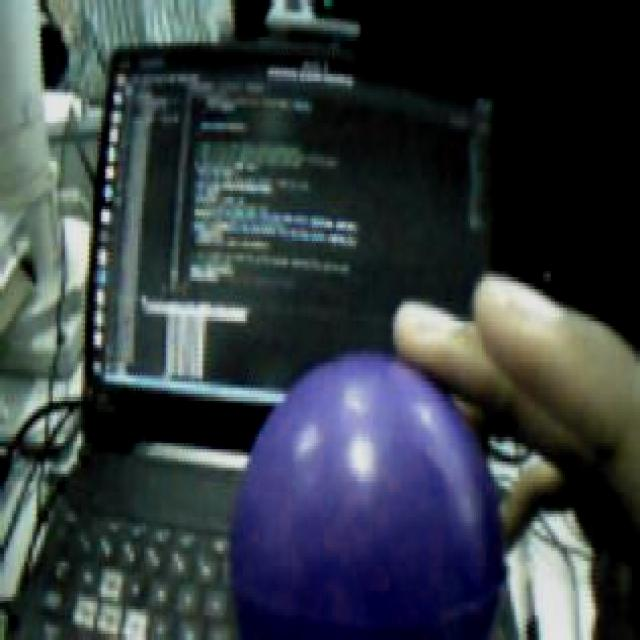BallPurple: (234, 344, 500, 640)
